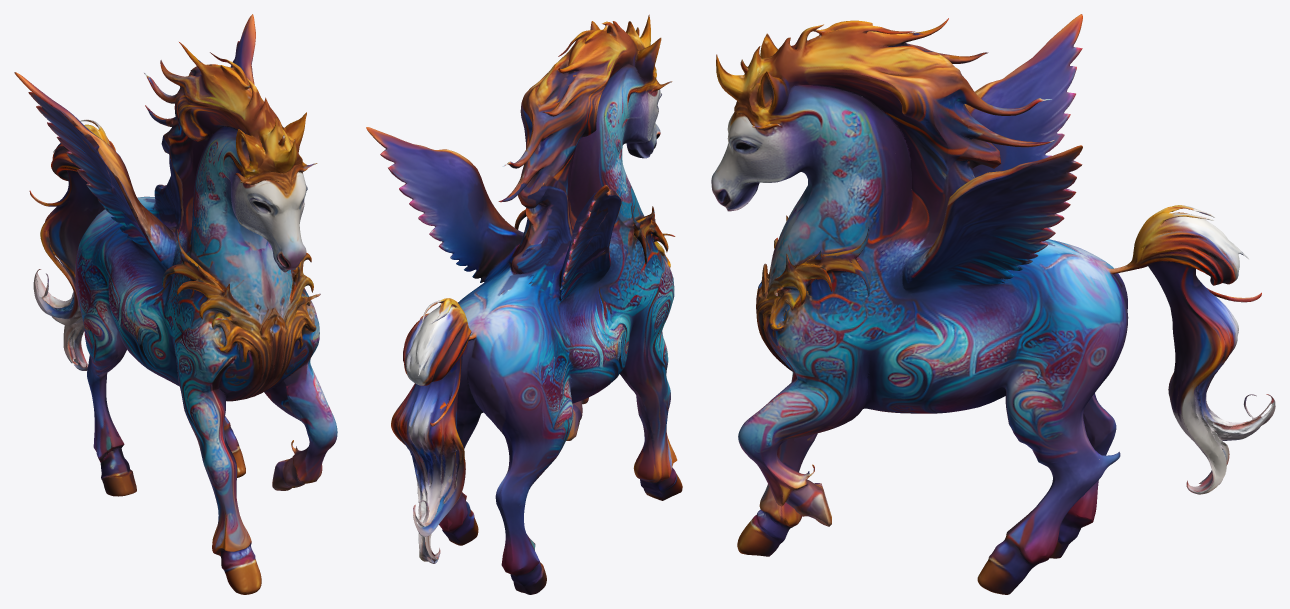
File: celestara_the_crowned_sky_steed.glb
3 renders of one model, left to right at view 1: azimuth 30°, elevation 25°; view 2: azimuth 150°, elevation 25°; view 3: azimuth 270°, elevation 25°, orthographic. The views are drawn at different scales.
Parts seen in each view (by area): view 1: model; view 2: model; view 3: model.
Boxes of the visible parts, x1,y1,x2,y2 form: model: [14, 14, 337, 594]; model: [366, 14, 682, 594]; model: [711, 14, 1275, 594].
Bounding box in the file's own units: 1.58 × 3.06 × 2.87.
1 material, 1 textured.
